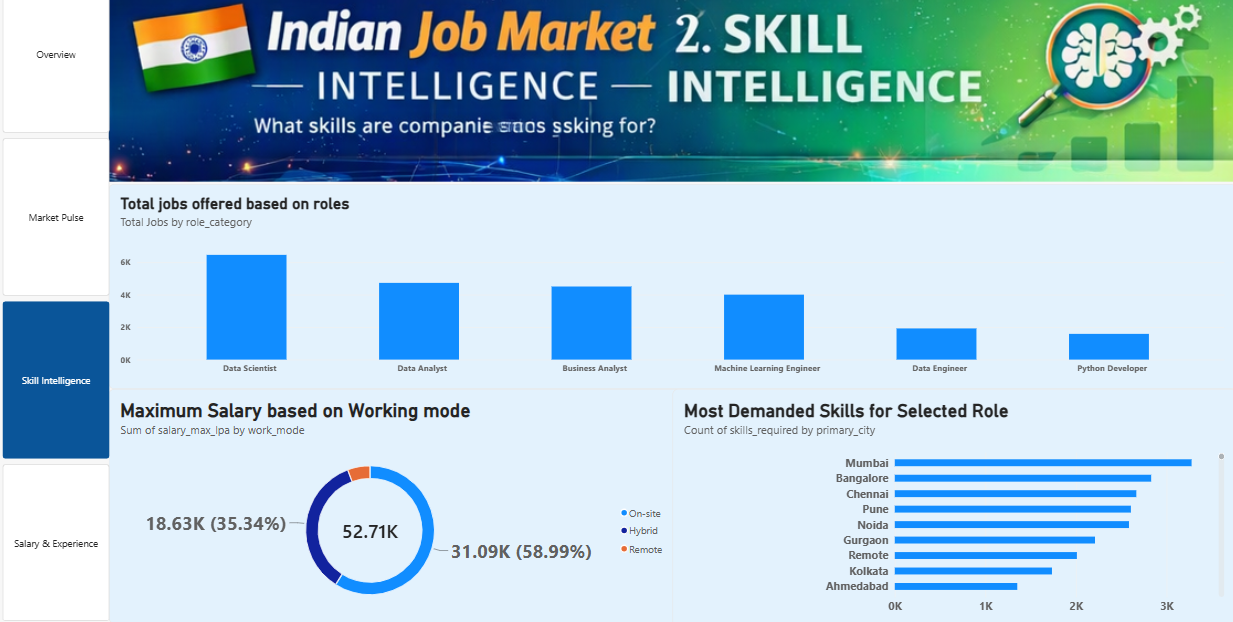

This screenshot's page, from the dashboard's own definition file:
{"tool":"powerbi","page":{"name":"Skill Intelligence","canvas":[1920,1080],"ordinal":2},"visuals":[{"type":"image","box":[186.4,0,1632.8,340.6],"z":0},{"type":"donutChart","title":"Maximum Salary based on Working mode","fields":{"Category":["JobData.work_mode"],"Y":["Sum(JobData.salary_max_lpa)"]},"box":[186.4,622.5,828.1,340.6],"z":1000},{"type":"barChart","title":"Most Demanded Skills for Selected Role","fields":{"Category":["JobData.primary_city"],"Y":["CountNonNull(JobData.skills_required)"]},"box":[1002.6,622.5,816.1,348.2],"z":2000},{"type":"clusteredColumnChart","title":"Total jobs offered based on roles","fields":{"Category":["JobData.role_category"],"Y":["JobData.Total Jobs"]},"box":[186.4,325.7,1632.1,296.4],"z":3000},{"type":"pageNavigator","box":[32.6,23.5,155.6,939.2],"z":3001}]}

Visuals, with their boxes on the page's 1920x1080 design canvas (x1, y1, x2, y2). These are canvas units, not pixel positions in the 1233x622 screenshot, which may show the page scaled, cropped or inside an application window:
image: box(186, 0, 1819, 341)
"Maximum Salary based on Working mode" donutChart: box(186, 622, 1014, 963)
"Most Demanded Skills for Selected Role" barChart: box(1003, 622, 1819, 971)
"Total jobs offered based on roles" clusteredColumnChart: box(186, 326, 1818, 622)
pageNavigator: box(33, 24, 188, 963)
